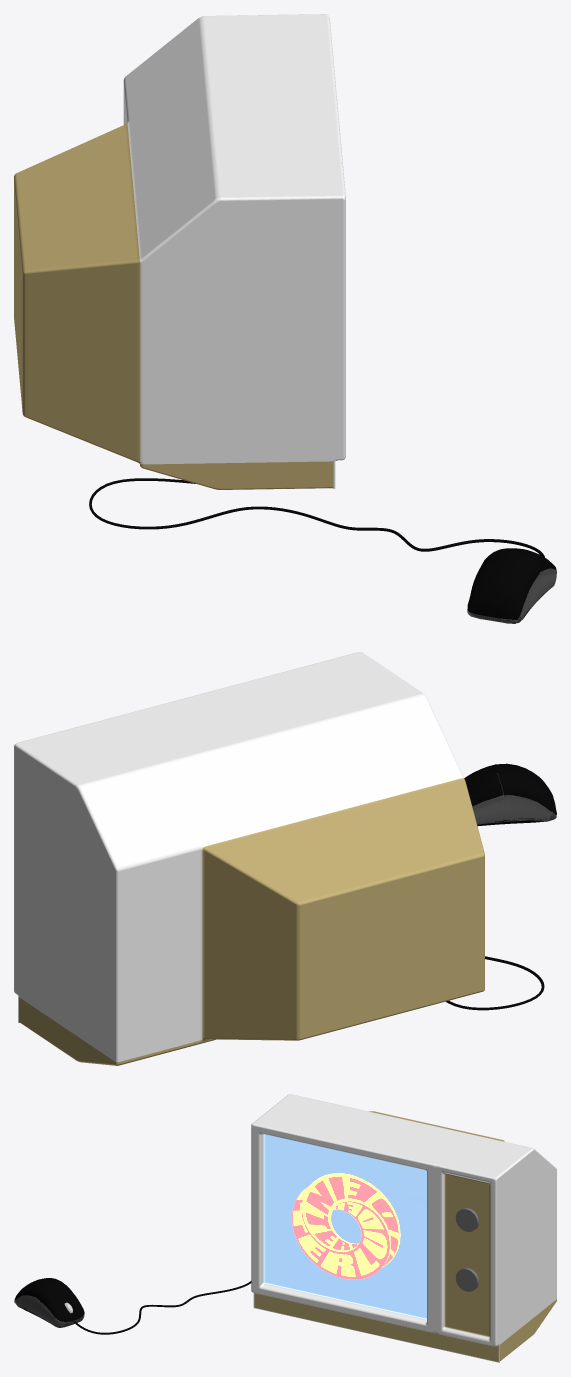
The picture shows the model from 3 angles, top to bottom: view 1: azimuth 30°, elevation 25°; view 2: azimuth 150°, elevation 25°; view 3: azimuth 270°, elevation 25°; orthographic projection. The views are drawn at different scales.
Visible parts, largest first — view 1: Mouse.002; view 2: Mouse.002; view 3: Mouse.002.
Part boxes in pixels (x1=…): Mouse.002: x1=14, y1=14, x2=556, y2=623; Mouse.002: x1=14, y1=652, x2=556, y2=1065; Mouse.002: x1=14, y1=1094, x2=556, y2=1362.
Size of the model in its own units: 1.5 by 1.05 by 2.76.
